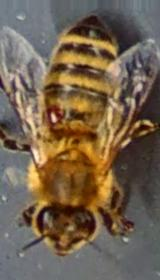varroa_mite: (38, 99, 68, 127)
